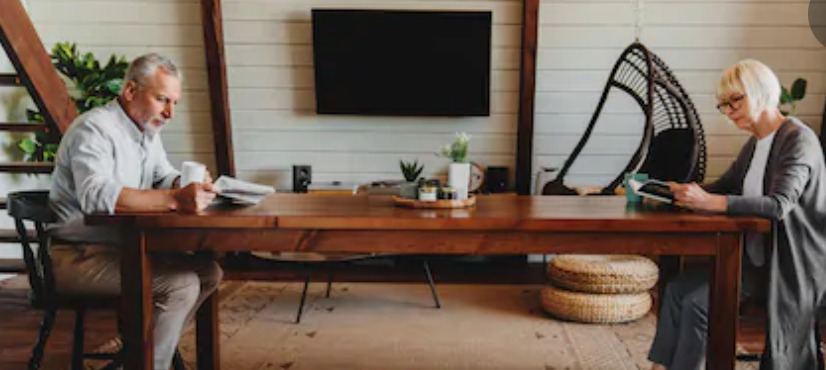Good: (46, 49, 826, 368)
